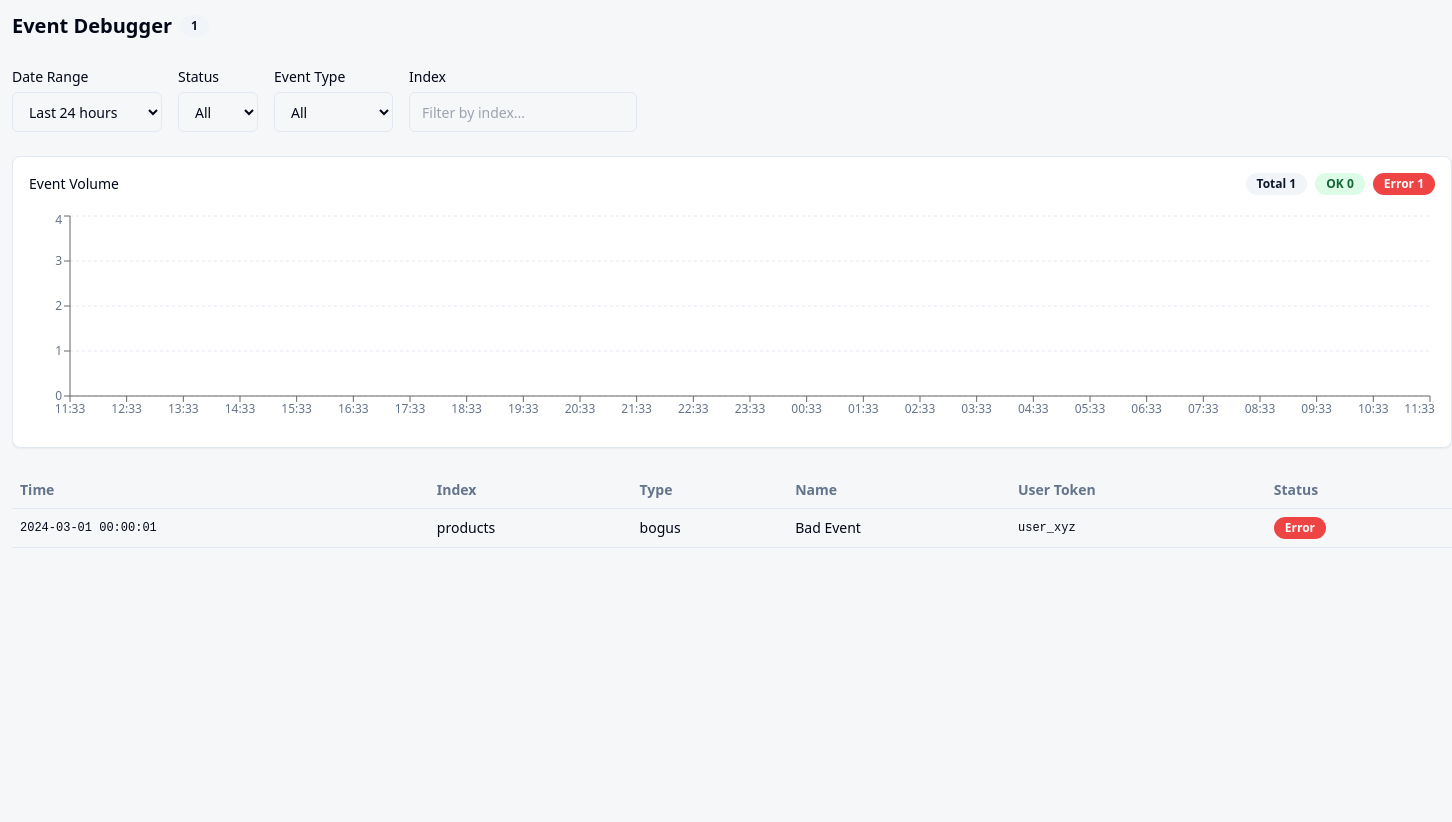
Scenario: EventDebugger › shows validation errors in detail panel for error events
The width and height of the screenshot is (1452, 822).
Step 1. Click the row with test id "event-row" → (732, 528), box [12,508,1451,548]
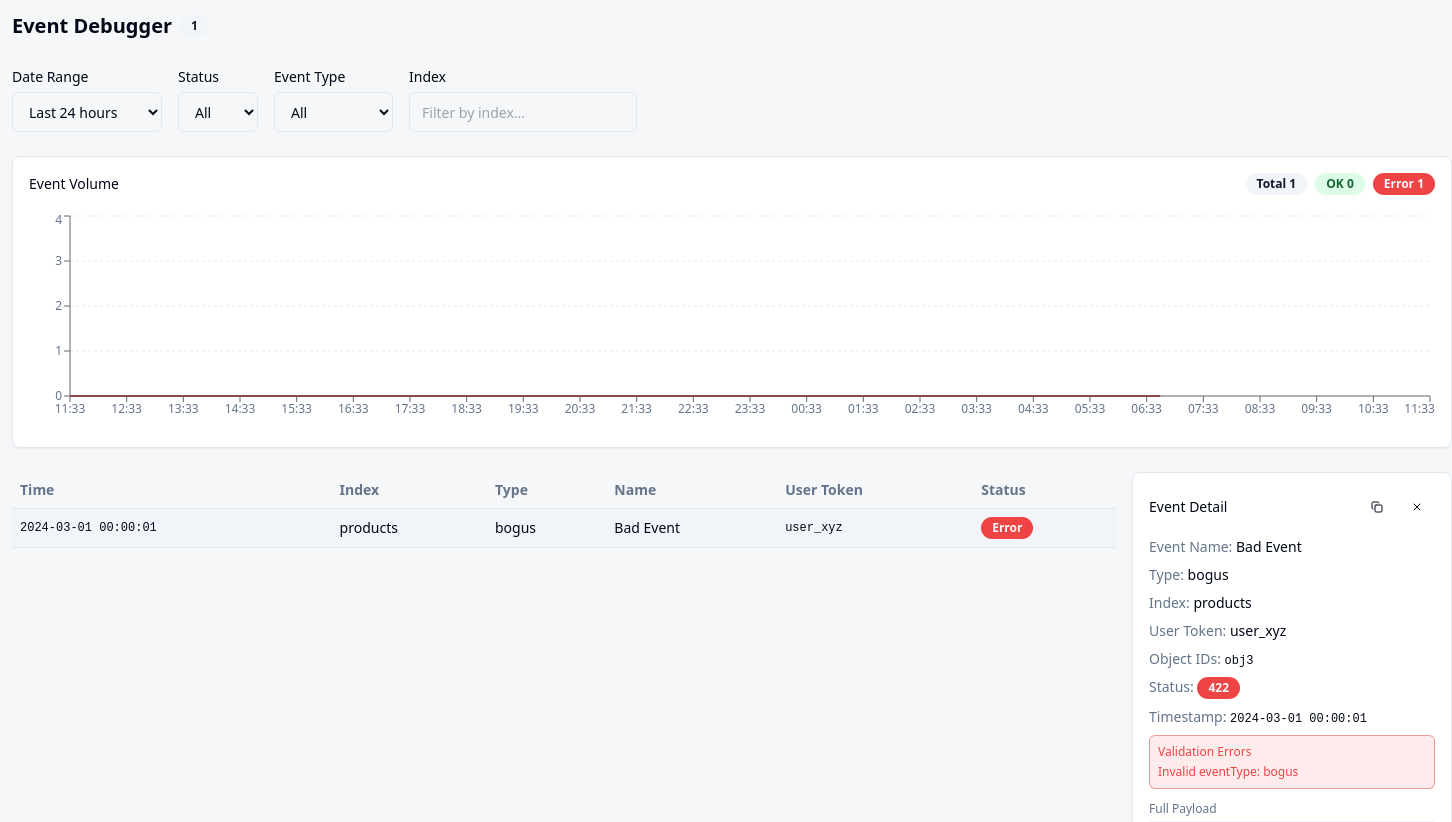
Check: the list item "Invalid eventType: bogus" is shown, box [1158,763,1298,780]
